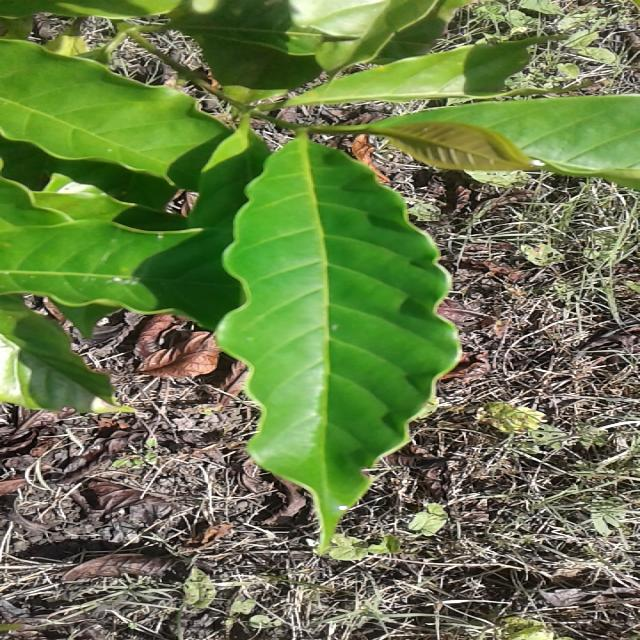Sanas: (213, 138, 461, 552)
